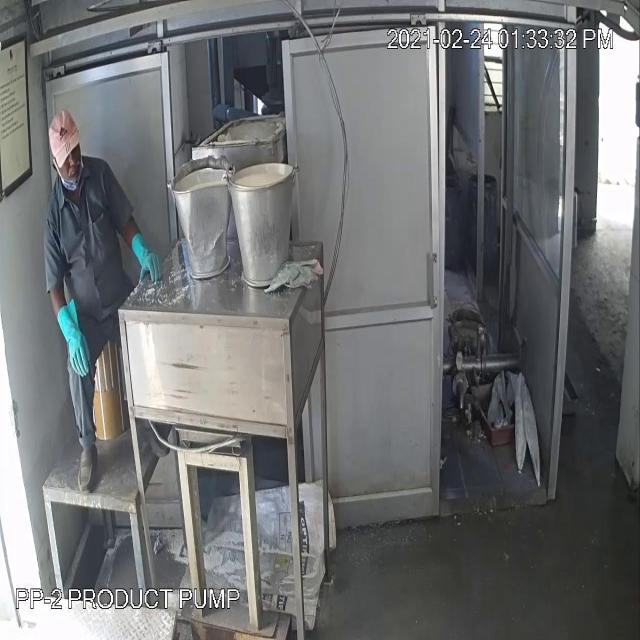no-helmet: (40, 96, 84, 170)
